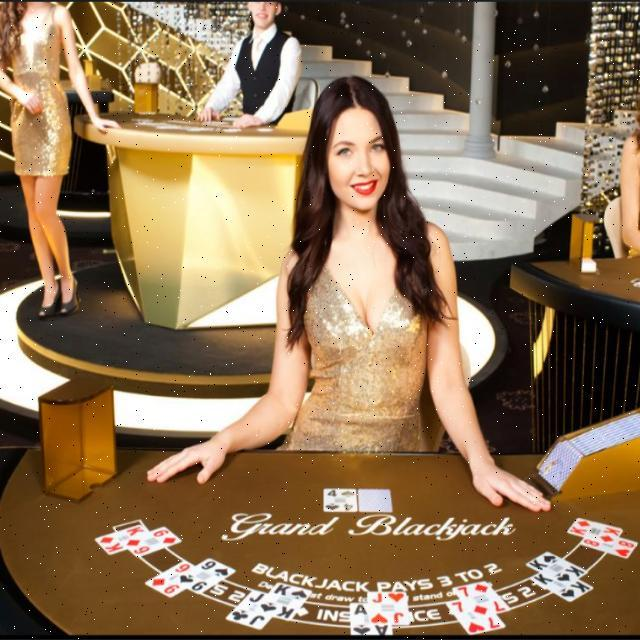Card-4: (323, 488, 357, 511)
Card-6: (122, 525, 182, 557)
Card-7: (453, 581, 511, 620), (445, 600, 506, 635)
Card-8: (580, 537, 638, 559)
Card-9: (174, 557, 236, 594), (144, 560, 194, 599)
Card-A: (351, 602, 393, 635)
Card-J: (226, 591, 272, 631), (367, 592, 409, 626)
Card-K: (526, 551, 589, 588), (255, 583, 313, 620), (529, 573, 594, 602), (94, 524, 147, 556), (567, 517, 623, 546)
